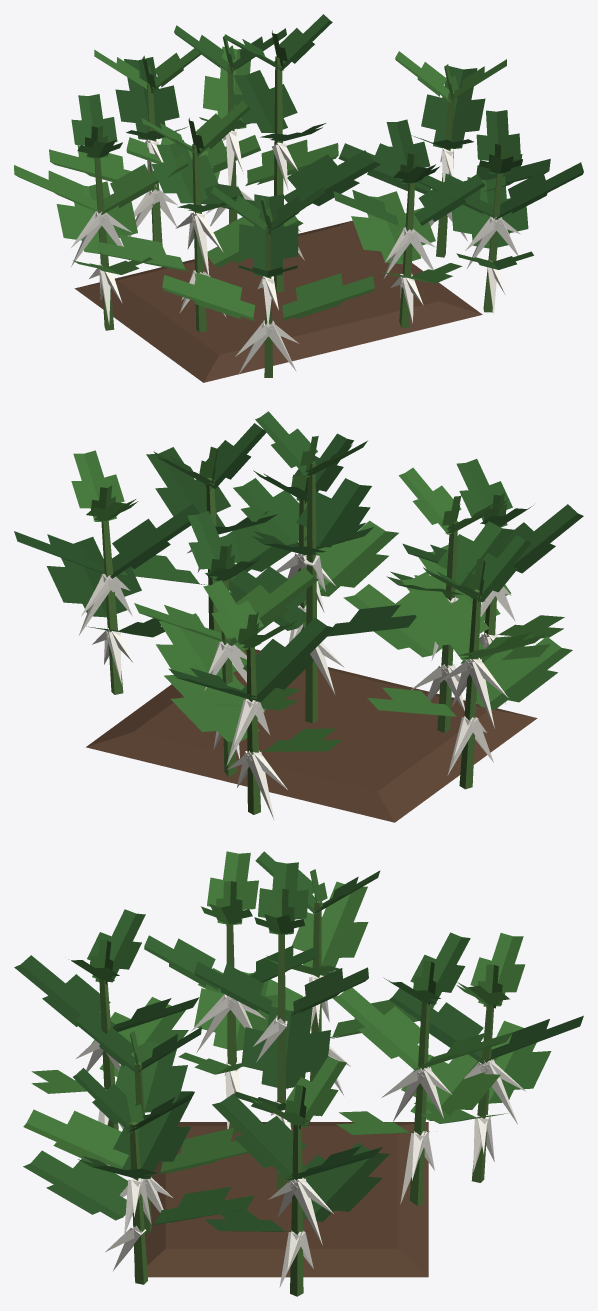
File: nettle-patch-blocky.glb
3 views of the same model, one above another, from view 1: azimuth 30°, elevation 25°; view 2: azimuth 150°, elevation 25°; view 3: azimuth 270°, elevation 25° (orthographic). The views are drawn at different scales.
Visible parts, largest first — view 1: nettle-patch; view 2: nettle-patch; view 3: nettle-patch.
Boxes of the visible parts, x1,y1,x2,y2 form: nettle-patch: [14, 14, 583, 382]; nettle-patch: [14, 411, 583, 822]; nettle-patch: [14, 851, 583, 1296].
Size of the model in its own units: 1.18 by 0.6309 by 1.04.
